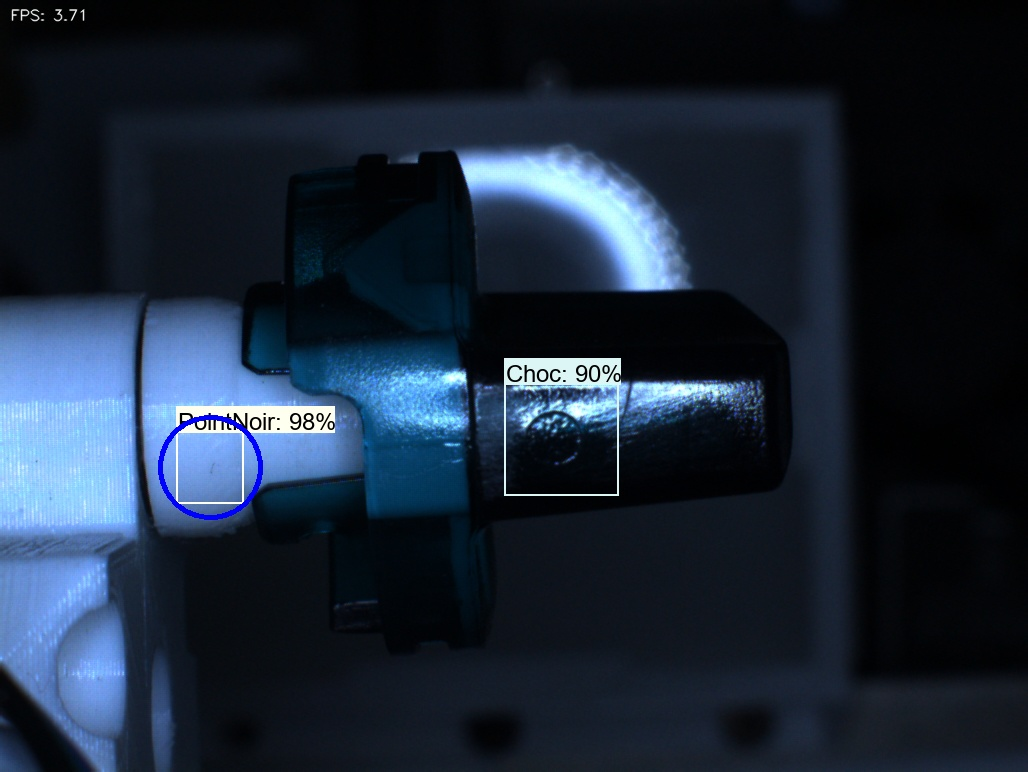DentOk: (316, 228, 390, 303)
